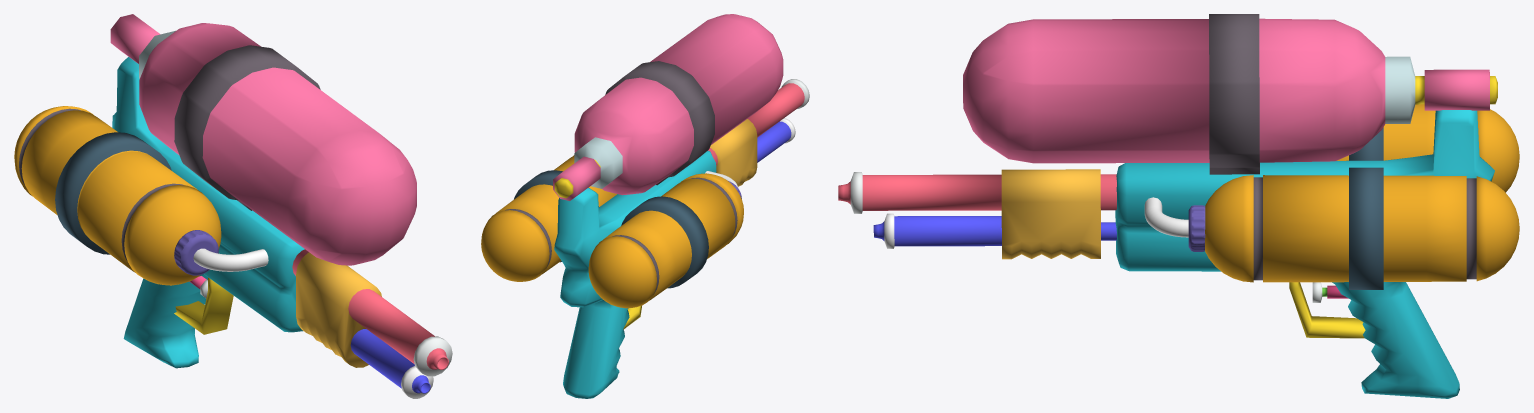
File: Watergun9.fbx
3 renders of one model, left to right at view 1: azimuth 30°, elevation 25°; view 2: azimuth 150°, elevation 25°; view 3: azimuth 270°, elevation 25°, orthographic. The views are drawn at different scales.
Visible parts, largest first — view 1: Watergun9; view 2: Watergun9; view 3: Watergun9.
Boxes of the visible parts, left/top/right/bottom form: Watergun9: left=14, top=14, right=452, bottom=398; Watergun9: left=481, top=14, right=809, bottom=398; Watergun9: left=838, top=14, right=1519, bottom=398.
Bounding box in the file's own units: 0.175 × 0.2443 × 0.407.
